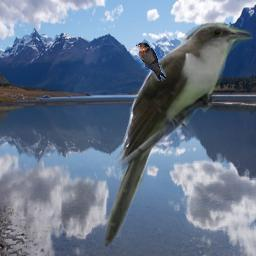Cuckoo: (97, 20, 253, 252)
Swallow: (136, 42, 166, 81)
